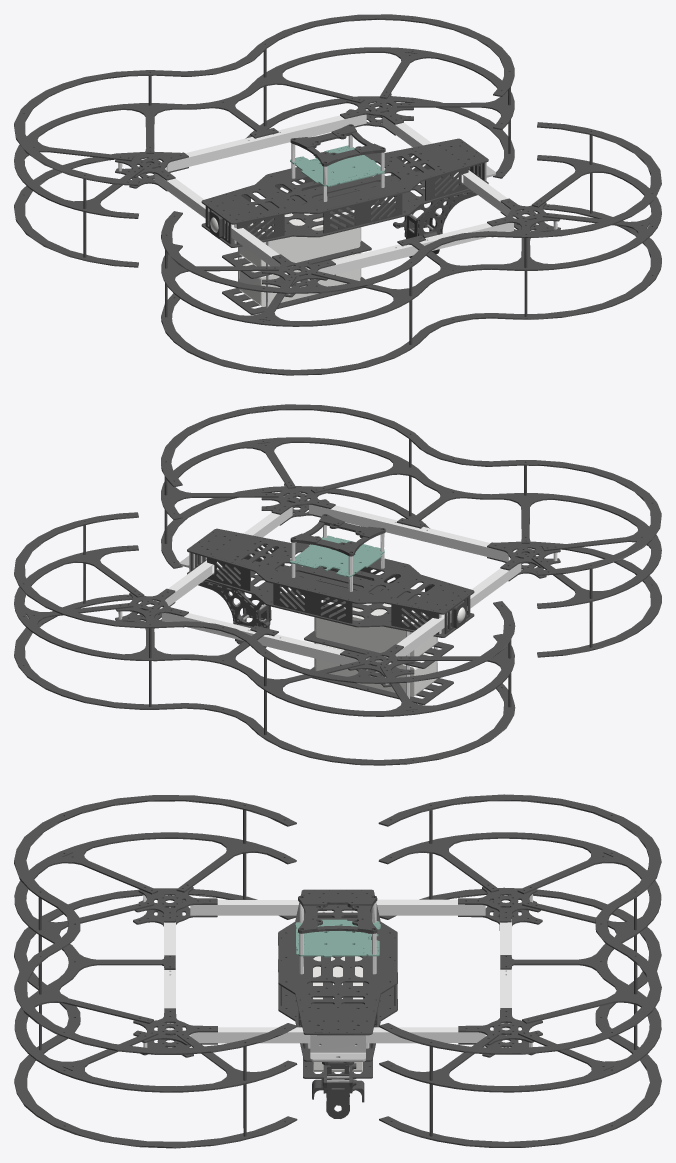
File: NAKI_legless_frame.dae
3 renders of one model, top to bottom at view 1: azimuth 30°, elevation 25°; view 2: azimuth 150°, elevation 25°; view 3: azimuth 270°, elevation 25°, orthographic. The views are drawn at different scales.
Visible parts, largest first — view 1: NAKI_II_CPS_shorter_v4, NAKI_II_CPS_Mid_shorter_v7, NAKI_II_base_layer_top_v43, motor_mount_v6, Arm_Vertical_v3, Tattu_6S_8000mAh_25C_v4, NAKI_II_base_layer_bot_v59, Arm_Horizontal_v4, NAKI_II_Side_B_v5, MB_NUC_INTEL_FN, NAKI_II_bat_layer_v29, NAKI_II_Side_A_v13 (+4 smaller); view 2: NAKI_II_CPS_shorter_v4, NAKI_II_CPS_Mid_shorter_v7, NAKI_II_base_layer_top_v43, motor_mount_v6, Arm_Vertical_v3, Tattu_6S_8000mAh_25C_v4, NAKI_II_base_layer_bot_v59, Arm_Horizontal_v4, NAKI_II_Side_B_v5, MB_NUC_INTEL_FN, NAKI_II_bat_layer_v29, NAKI_II_Side_A_v13 (+4 smaller); view 3: NAKI_II_CPS_shorter_v4, NAKI_II_CPS_Mid_shorter_v7, NAKI_II_base_layer_top_v43, motor_mount_v6, Arm_Horizontal_v4, NAKI_II_base_layer_bot_v59, MB_NUC_INTEL_FN, OS0_holder_v1, Arm_Vertical_v3, Realsense_holder_v6, carbon_tube_4-3_75mm_v2, carbon_tube_4-3_50mm_v3 (+2 smaller).
Boxes of the visible parts, bbox=[...] form: NAKI_II_CPS_shorter_v4: bbox=[14, 14, 661, 375]; NAKI_II_CPS_Mid_shorter_v7: bbox=[14, 47, 661, 326]; NAKI_II_base_layer_top_v43: bbox=[201, 138, 488, 224]; motor_mount_v6: bbox=[115, 93, 560, 297]; Arm_Vertical_v3: bbox=[162, 114, 513, 279]; Tattu_6S_8000mAh_25C_v4: bbox=[239, 212, 360, 306]; NAKI_II_base_layer_bot_v59: bbox=[201, 169, 488, 247]; Arm_Horizontal_v4: bbox=[154, 117, 520, 274]; NAKI_II_Side_B_v5: bbox=[208, 144, 468, 244]; MB_NUC_INTEL_FN: bbox=[290, 145, 384, 186]; NAKI_II_bat_layer_v29: bbox=[222, 240, 371, 314]; NAKI_II_Side_A_v13: bbox=[275, 168, 402, 233]; NAKI_II_CPS_shorter_v4: bbox=[14, 404, 661, 765]; NAKI_II_CPS_Mid_shorter_v7: bbox=[14, 437, 661, 716]; NAKI_II_base_layer_top_v43: bbox=[187, 528, 474, 614]; motor_mount_v6: bbox=[115, 483, 560, 687]; Arm_Vertical_v3: bbox=[162, 505, 513, 669]; Tattu_6S_8000mAh_25C_v4: bbox=[315, 602, 436, 696]; NAKI_II_base_layer_bot_v59: bbox=[187, 559, 474, 637]; Arm_Horizontal_v4: bbox=[155, 507, 521, 664]; NAKI_II_Side_B_v5: bbox=[207, 534, 467, 634]; MB_NUC_INTEL_FN: bbox=[290, 535, 384, 577]; NAKI_II_bat_layer_v29: bbox=[304, 631, 453, 704]; NAKI_II_Side_A_v13: bbox=[273, 558, 400, 623]; NAKI_II_CPS_shorter_v4: bbox=[14, 794, 661, 1148]; NAKI_II_CPS_Mid_shorter_v7: bbox=[14, 832, 661, 1092]; NAKI_II_base_layer_top_v43: bbox=[278, 889, 397, 1035]; motor_mount_v6: bbox=[133, 886, 542, 1057]; Arm_Horizontal_v4: bbox=[190, 899, 485, 1043]; NAKI_II_base_layer_bot_v59: bbox=[278, 918, 397, 1061]; MB_NUC_INTEL_FN: bbox=[295, 919, 380, 957]; OS0_holder_v1: bbox=[298, 895, 377, 933]; Arm_Vertical_v3: bbox=[164, 919, 511, 1030]; Realsense_holder_v6: bbox=[310, 1035, 365, 1061]; carbon_tube_4-3_75mm_v2: bbox=[38, 853, 637, 1136]; carbon_tube_4-3_50mm_v3: bbox=[38, 810, 637, 1080].
Bounding box in the file's own units: 0.7687 × 0.8118 × 0.2141.
